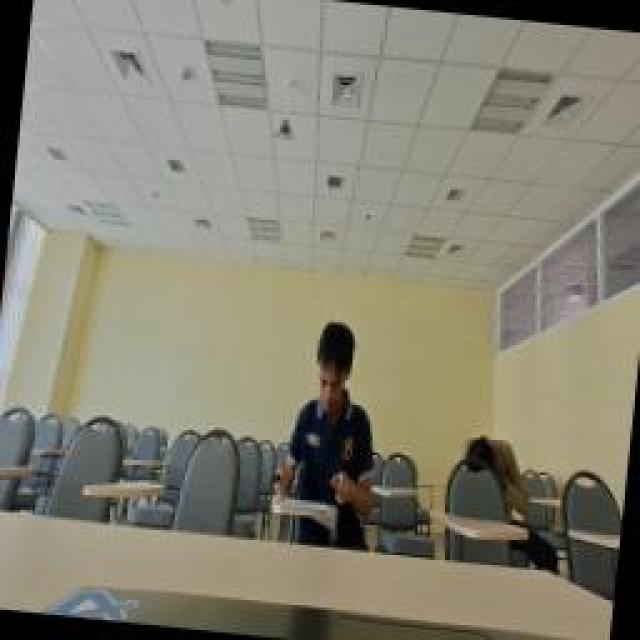sleep: (448, 430, 540, 528)
study: (263, 312, 395, 552)
